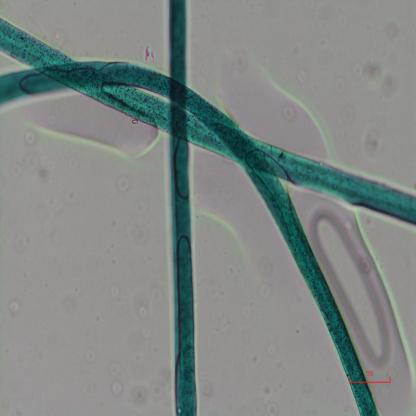Background material: (312, 214, 393, 370), (350, 58, 388, 97), (108, 350, 127, 403), (219, 43, 250, 74), (338, 101, 354, 143), (114, 174, 141, 198), (362, 134, 384, 162), (130, 287, 146, 318), (294, 65, 314, 87), (8, 289, 21, 322)
Microfibre: (0, 59, 379, 415), (0, 18, 416, 227), (169, 0, 197, 414)
